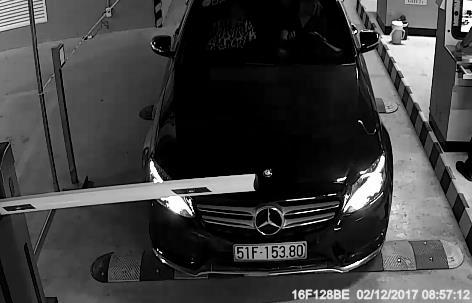License-plate: (231, 237, 317, 268)
